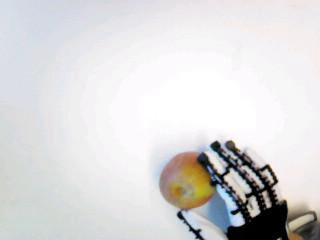apple: (156, 152, 217, 209)
hand: (176, 135, 289, 240)
